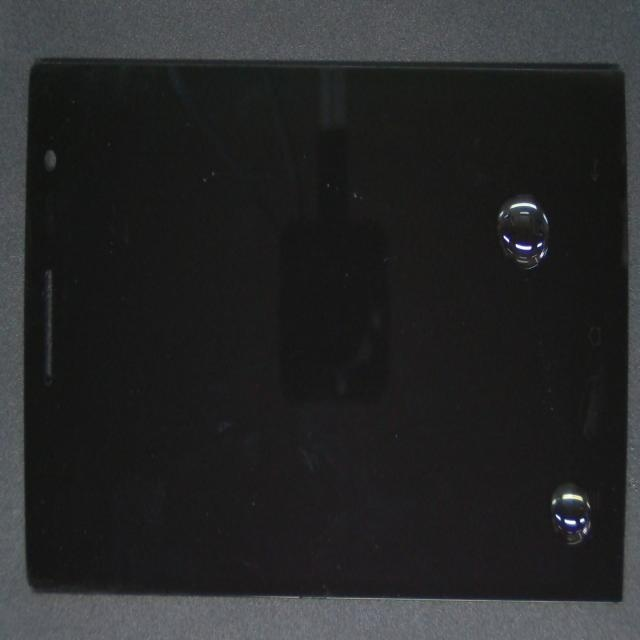oil: (301, 234, 640, 640), (286, 135, 640, 351)
